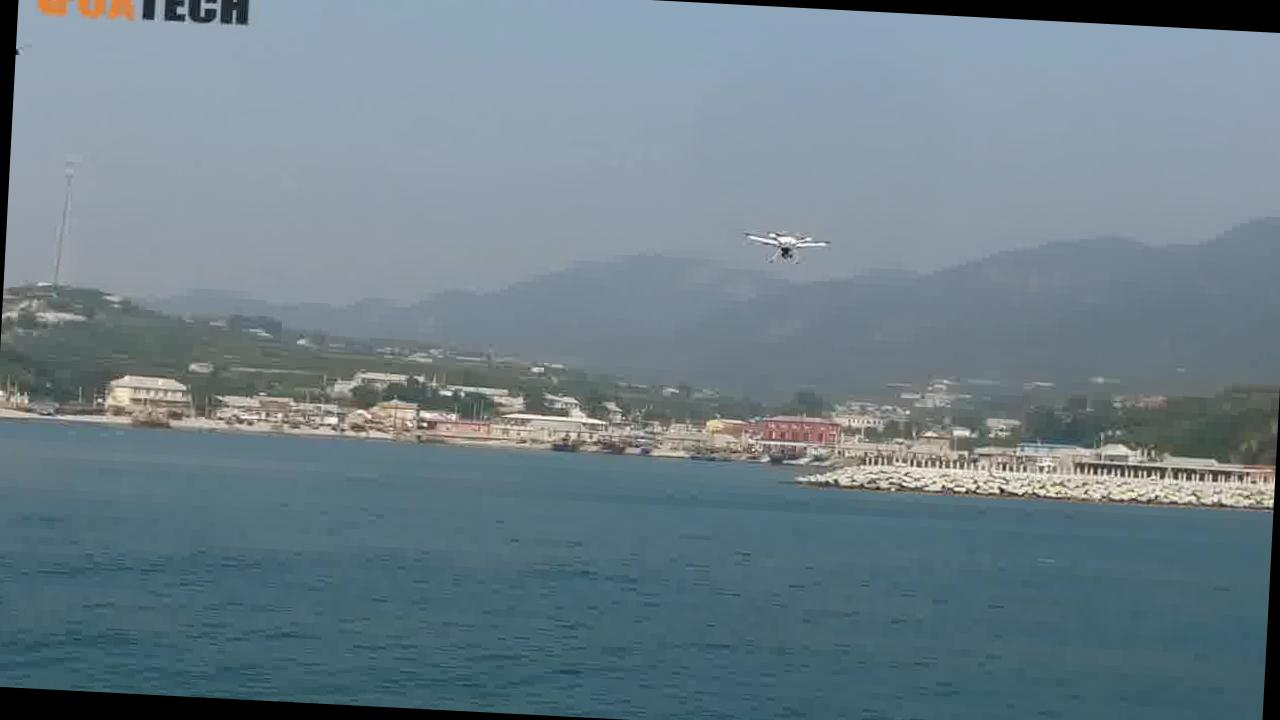drone: (722, 216, 848, 278)
